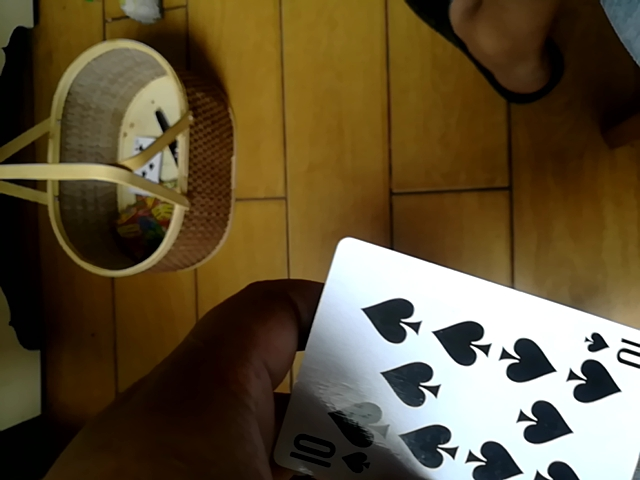ht 10: (276, 237, 632, 478)
